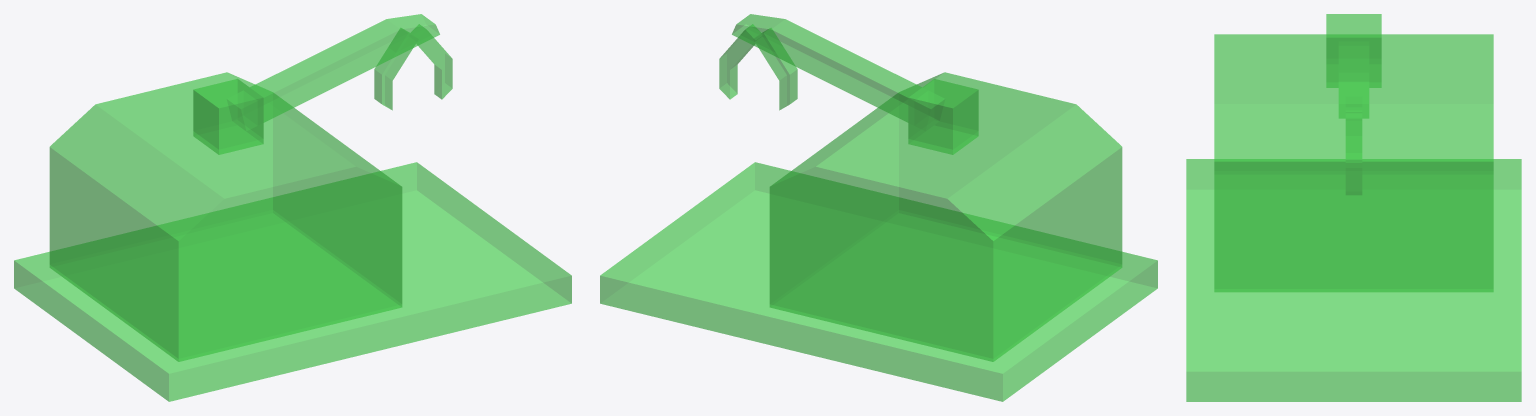
File: vehicle_depot.gltf
The picture shows the model from 3 angles, left to right: view 1: azimuth 30°, elevation 25°; view 2: azimuth 150°, elevation 25°; view 3: azimuth 270°, elevation 25°; orthographic projection. The views are drawn at different scales.
Parts seen in each view (by area): view 1: Cube; view 2: Cube; view 3: Cube.
Part boxes in pixels (bbox=[...]): Cube: bbox=[14, 14, 571, 401]; Cube: bbox=[600, 14, 1157, 401]; Cube: bbox=[1186, 14, 1521, 401].
Size of the model in its own units: 60 by 35.19 by 40.
